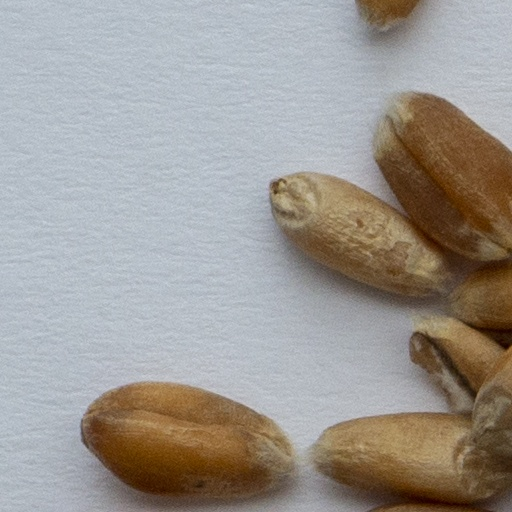Wheat-grain-damaged-poly: (447, 262, 511, 331)
